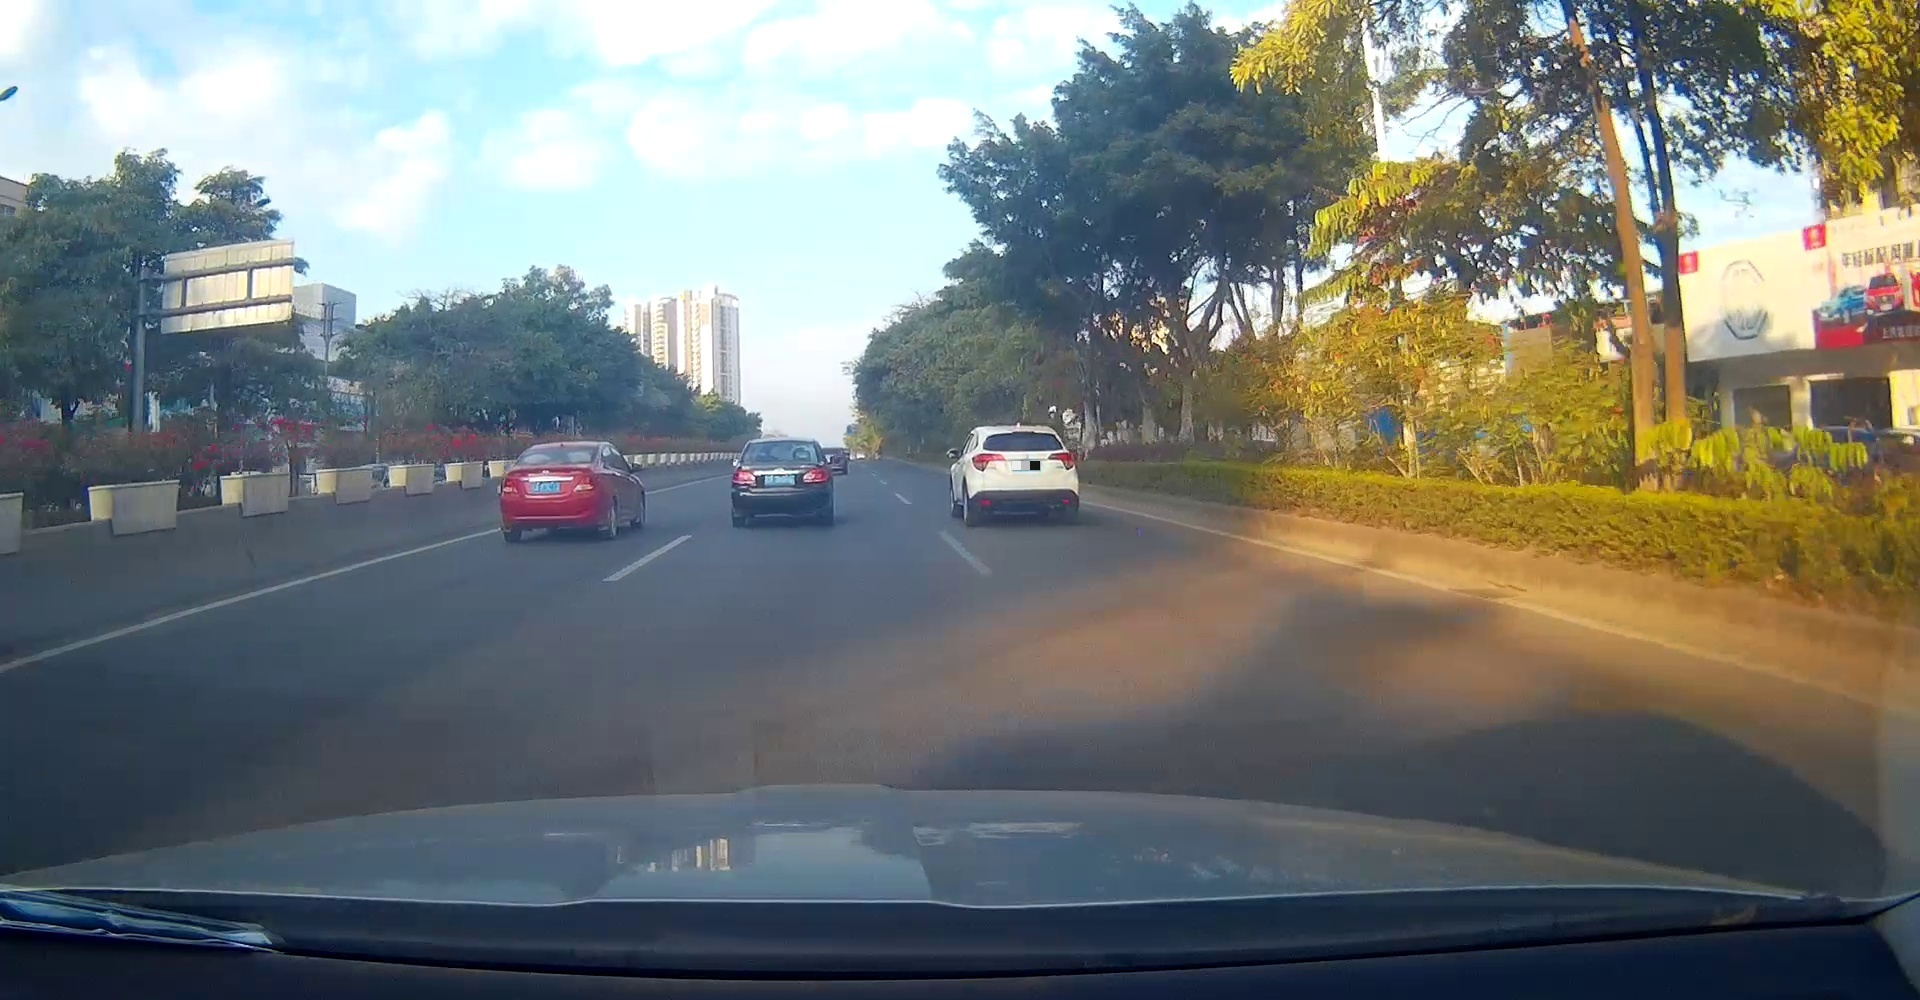L_light: (971, 453, 1006, 472), (731, 470, 756, 486), (502, 478, 518, 494)
R_light: (1048, 452, 1076, 470), (803, 467, 828, 482), (573, 476, 596, 492)
T_light: (1015, 433, 1031, 437), (775, 442, 787, 445), (552, 447, 568, 449)
day-no: (969, 426, 1079, 525), (499, 442, 601, 541), (730, 438, 829, 528)
plate_1: (1012, 461, 1040, 470)
